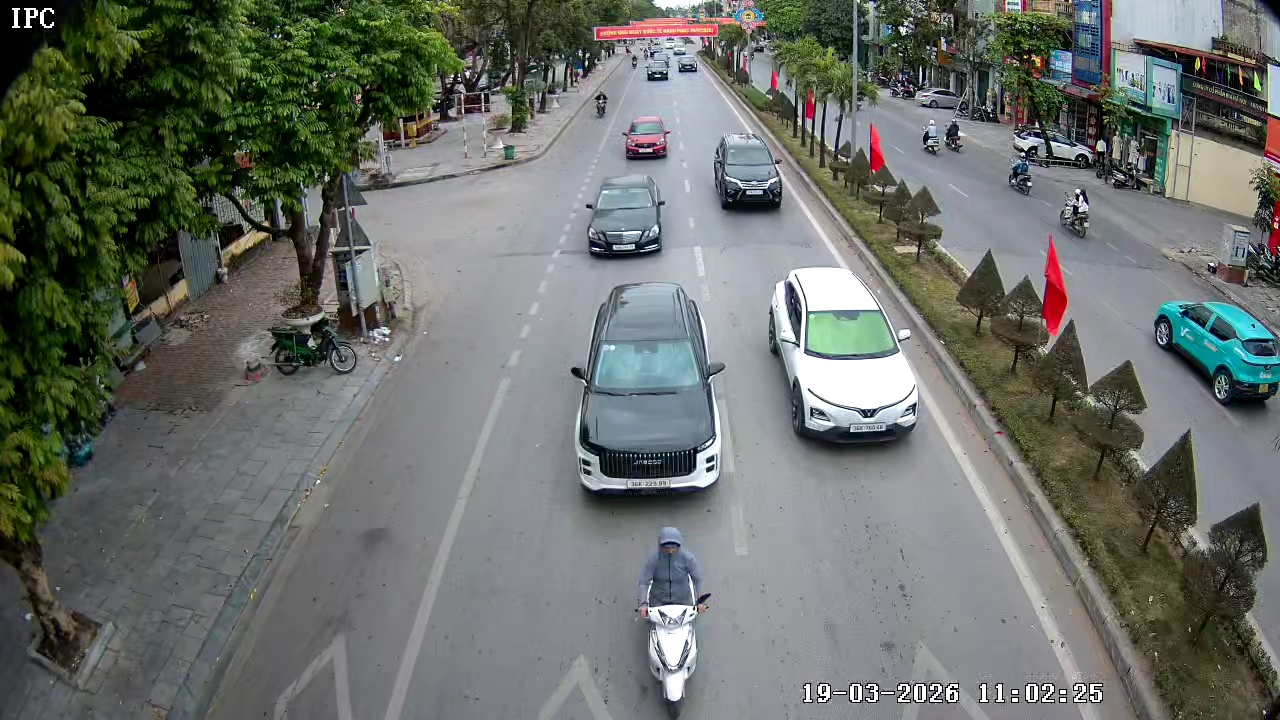car: (570, 281, 727, 497), (768, 268, 920, 442), (1153, 298, 1279, 405), (584, 174, 667, 258), (712, 132, 784, 212), (621, 114, 671, 160), (645, 59, 673, 83), (677, 54, 700, 75)
motorbike: (632, 524, 712, 719), (263, 312, 369, 383), (1059, 186, 1093, 241), (592, 89, 613, 122), (629, 54, 640, 70)
